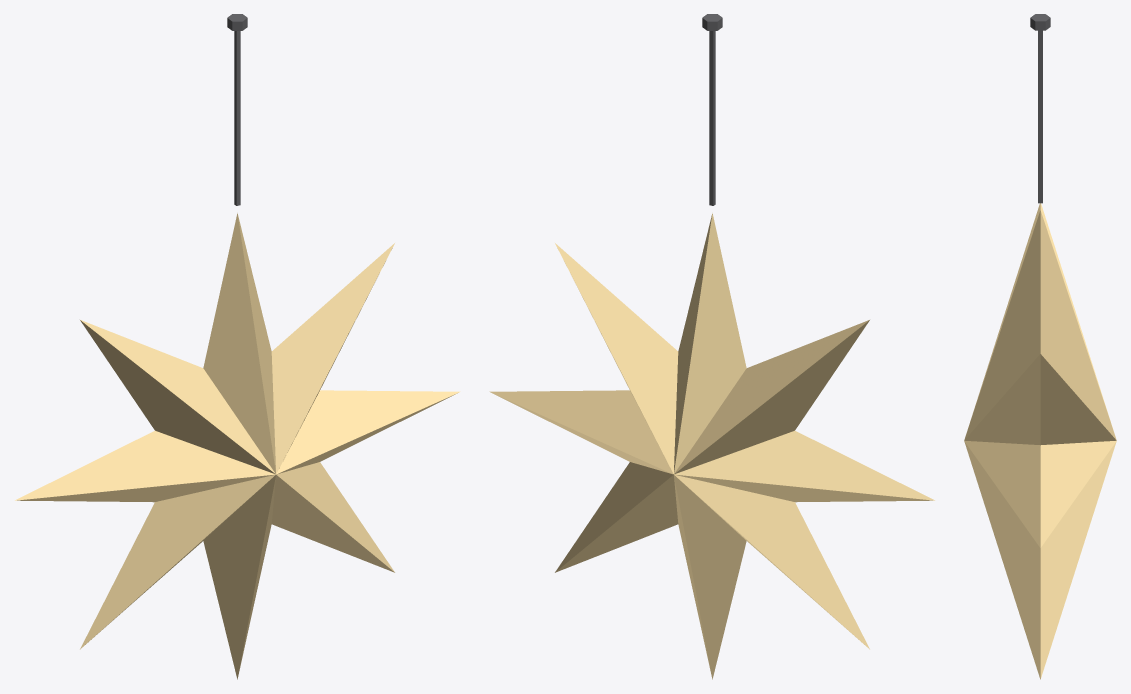
File: advent_star.glb
The picture shows the model from 3 angles, left to right: view 1: azimuth 30°, elevation 25°; view 2: azimuth 150°, elevation 25°; view 3: azimuth 270°, elevation 25°; orthographic projection.
Parts seen in each view (by area): view 1: star, advent_star; view 2: star, advent_star; view 3: star, advent_star.
Boxes of the visible parts, x1,y1,x2,y2 form: star: [15, 213, 460, 679]; advent_star: [227, 14, 247, 205]; star: [489, 213, 934, 679]; advent_star: [702, 14, 722, 205]; star: [964, 203, 1116, 679]; advent_star: [1030, 14, 1050, 203].
Size of the model in its own units: 0.6 by 0.85 by 0.18.
